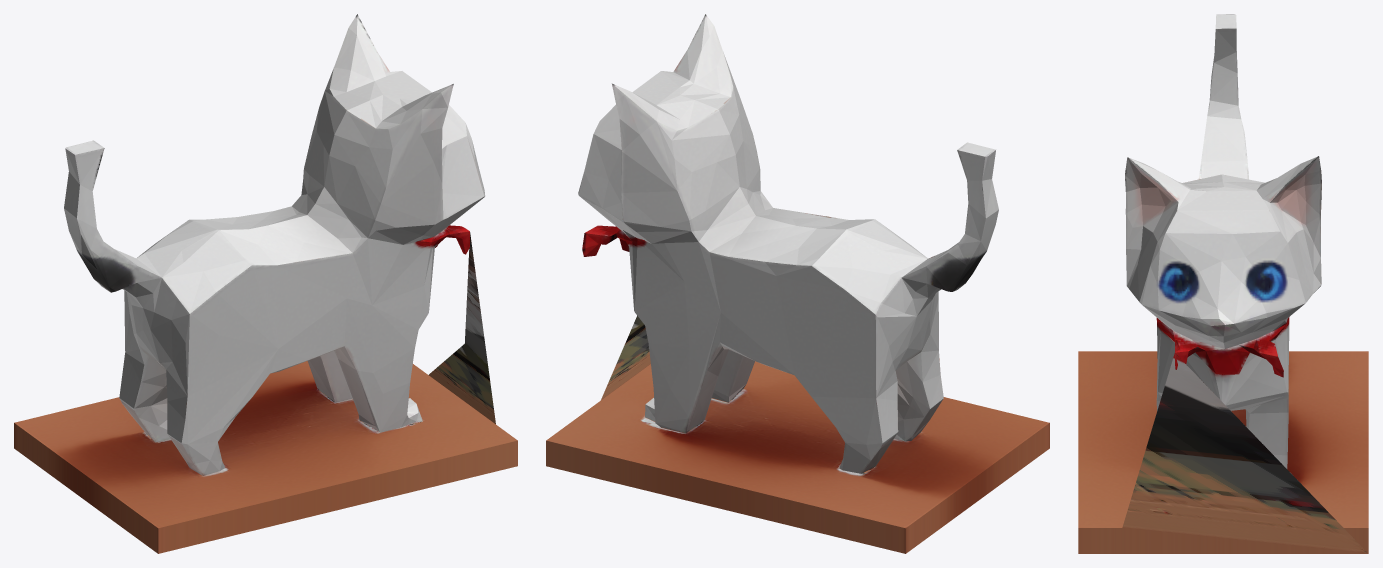
File: model-pick-3.glb
3 renders of one model, left to right at view 1: azimuth 30°, elevation 25°; view 2: azimuth 150°, elevation 25°; view 3: azimuth 270°, elevation 25°, orthographic.
Parts seen in each view (by area): view 1: geometry_0; view 2: geometry_0; view 3: geometry_0.
Boxes of the visible parts, left/top/right/bottom form: geometry_0: left=14, top=14, right=517, bottom=553; geometry_0: left=546, top=14, right=1049, bottom=553; geometry_0: left=1078, top=14, right=1368, bottom=553.
Size of the model in its own units: 0.4767 by 0.4226 by 0.2946.
Materials: 1 (1 with a texture image).
